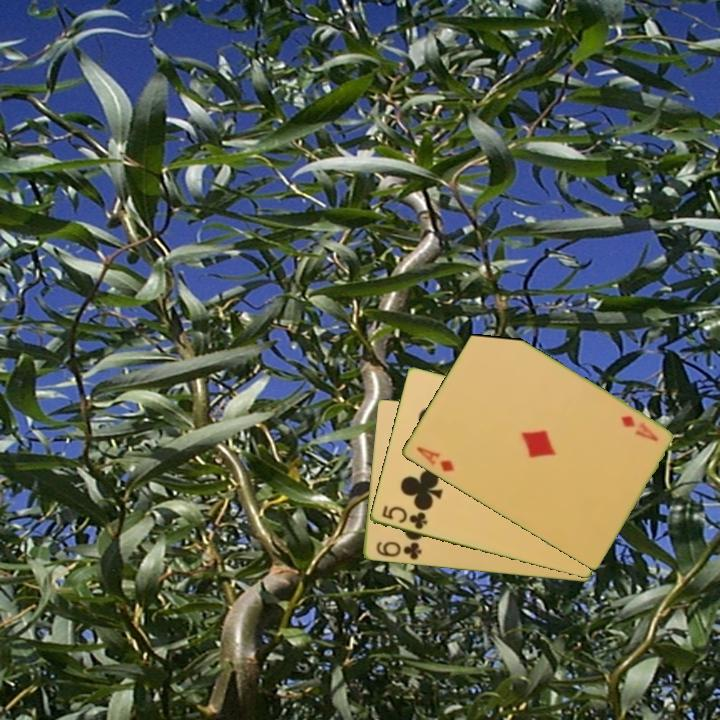5c: (378, 502, 430, 533)
6c: (372, 538, 424, 563)
Ad: (617, 412, 661, 445), (412, 443, 457, 475)
